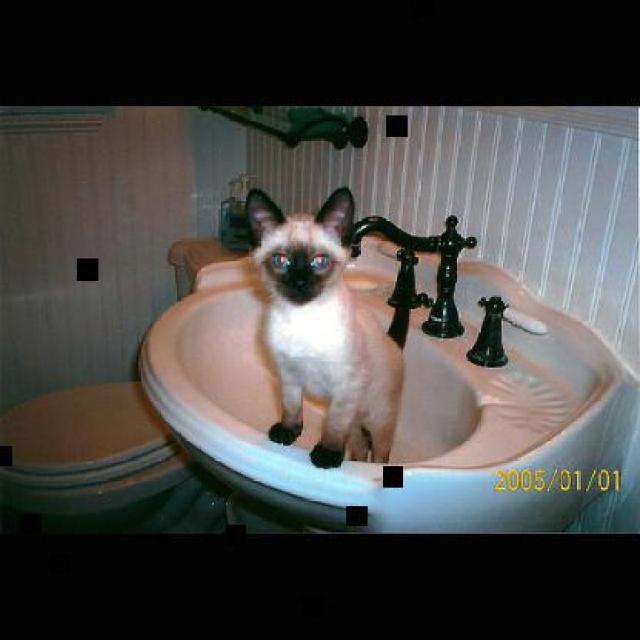unauthorized: (243, 185, 405, 466)
